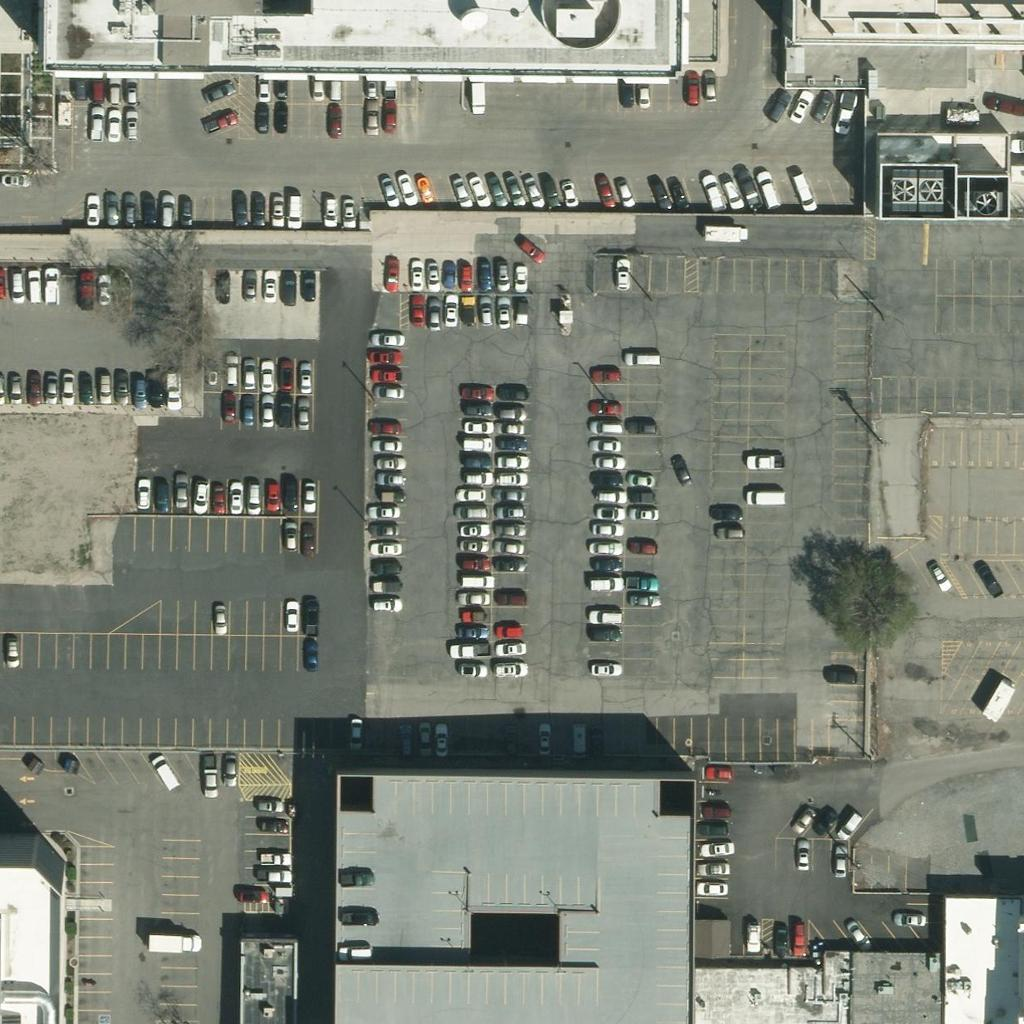car: (81, 67, 115, 101), (262, 67, 296, 101), (371, 67, 405, 101), (62, 69, 96, 103), (301, 69, 335, 103), (353, 69, 387, 103), (245, 70, 279, 104), (318, 70, 352, 104), (691, 70, 725, 104), (674, 71, 708, 105), (97, 73, 131, 107), (200, 74, 234, 108), (610, 74, 644, 108), (112, 76, 146, 110), (626, 76, 660, 110), (987, 87, 1021, 121), (761, 89, 795, 123), (804, 89, 838, 123), (783, 91, 817, 125), (827, 98, 861, 132), (243, 100, 277, 134), (262, 100, 296, 134), (372, 100, 406, 134), (206, 103, 240, 137), (355, 103, 389, 137), (79, 104, 113, 138), (113, 106, 147, 140), (318, 106, 352, 140), (96, 108, 130, 142), (727, 166, 761, 200), (389, 171, 423, 205), (496, 171, 530, 205), (748, 171, 782, 205), (479, 172, 513, 206), (370, 173, 404, 207), (460, 173, 494, 207), (532, 174, 566, 208), (443, 175, 477, 209), (515, 175, 549, 209), (587, 175, 621, 209), (696, 175, 730, 209), (713, 175, 747, 209), (409, 176, 443, 210), (607, 176, 641, 210), (787, 176, 821, 210), (551, 177, 585, 211), (644, 177, 678, 211), (661, 177, 695, 211), (222, 190, 256, 224), (240, 190, 274, 224), (131, 191, 165, 225), (311, 191, 345, 225), (168, 192, 202, 226), (94, 193, 128, 227), (111, 193, 145, 227), (168, 193, 202, 227), (260, 193, 294, 227), (329, 193, 363, 227), (148, 194, 182, 228), (74, 195, 108, 229), (277, 195, 311, 229), (512, 231, 546, 265), (374, 256, 408, 290), (466, 256, 500, 290), (484, 256, 518, 290), (603, 256, 637, 290), (398, 257, 432, 291), (431, 257, 465, 291), (414, 258, 448, 292), (449, 259, 483, 293), (502, 259, 536, 293), (16, 264, 50, 298), (33, 267, 67, 301), (205, 268, 239, 302), (232, 268, 266, 302), (252, 268, 286, 302), (68, 269, 102, 303), (290, 270, 324, 304), (86, 272, 120, 306), (272, 272, 306, 306), (448, 293, 482, 327), (399, 294, 433, 328), (433, 294, 467, 328), (467, 294, 501, 328), (484, 294, 518, 328), (504, 296, 538, 330), (416, 298, 450, 332), (368, 322, 402, 356), (366, 339, 400, 373), (624, 342, 658, 376), (215, 354, 249, 388), (267, 356, 301, 390), (368, 357, 402, 391), (590, 357, 624, 391), (193, 359, 227, 393), (231, 359, 265, 393), (248, 359, 282, 393), (288, 361, 322, 395), (16, 369, 50, 403), (32, 369, 66, 403), (104, 369, 138, 403), (50, 370, 84, 404), (88, 370, 122, 404), (68, 372, 102, 406), (139, 373, 173, 407), (121, 374, 155, 408), (373, 374, 407, 408), (459, 374, 493, 408), (499, 376, 533, 410), (157, 377, 191, 411), (211, 390, 245, 424), (230, 391, 264, 425), (589, 391, 623, 425), (460, 392, 494, 426), (249, 394, 283, 428), (268, 394, 302, 428), (493, 395, 527, 429), (284, 396, 318, 430), (368, 409, 402, 443), (461, 409, 495, 443), (587, 409, 621, 443), (491, 410, 525, 444), (628, 410, 662, 444), (494, 425, 528, 459), (369, 427, 403, 461), (459, 427, 493, 461), (588, 428, 622, 462), (493, 444, 527, 478), (590, 444, 624, 478), (459, 445, 493, 479), (745, 445, 779, 479), (371, 446, 405, 480), (665, 455, 699, 489), (372, 460, 406, 494), (459, 460, 493, 494), (494, 461, 528, 495), (588, 462, 622, 496), (623, 462, 657, 496), (273, 475, 307, 509), (254, 476, 288, 510), (453, 476, 487, 510), (124, 477, 158, 511), (163, 477, 197, 511), (492, 477, 526, 511), (182, 478, 216, 512), (290, 478, 324, 512), (376, 478, 410, 512), (593, 478, 627, 512), (626, 478, 660, 512), (143, 479, 177, 513), (219, 479, 253, 513), (234, 479, 268, 513), (202, 480, 236, 514), (750, 481, 784, 515), (365, 494, 399, 528), (454, 494, 488, 528), (495, 494, 529, 528), (590, 495, 624, 529), (627, 495, 661, 529), (708, 495, 742, 529), (368, 512, 402, 546), (456, 512, 490, 546), (492, 512, 526, 546), (589, 512, 623, 546), (713, 515, 747, 549), (273, 518, 307, 552), (290, 525, 324, 559), (455, 527, 489, 561), (626, 529, 660, 563), (491, 530, 525, 564), (588, 530, 622, 564), (368, 532, 402, 566), (491, 546, 525, 580), (588, 546, 622, 580), (454, 547, 488, 581), (370, 551, 404, 585), (921, 558, 955, 592), (971, 560, 1005, 594), (462, 563, 496, 597), (626, 565, 660, 599), (588, 566, 622, 600), (369, 568, 403, 602), (460, 581, 494, 615), (494, 581, 528, 615), (626, 582, 660, 616), (368, 587, 402, 621), (459, 599, 493, 633), (589, 599, 623, 633), (202, 600, 236, 634), (273, 600, 307, 634), (294, 600, 328, 634), (454, 614, 488, 648), (493, 614, 527, 648), (589, 616, 623, 650), (493, 631, 527, 665), (451, 633, 485, 667), (293, 639, 327, 673), (585, 651, 619, 685), (451, 652, 485, 686), (493, 652, 527, 686), (824, 658, 858, 692), (338, 715, 372, 749), (407, 721, 441, 755), (492, 722, 526, 756), (525, 722, 559, 756), (424, 723, 458, 757), (387, 724, 421, 758), (580, 725, 614, 759), (580, 726, 614, 760), (560, 727, 594, 761), (142, 751, 176, 785), (213, 751, 247, 785), (703, 755, 737, 789), (192, 764, 226, 798), (248, 788, 282, 822), (700, 794, 734, 828), (786, 802, 820, 836), (809, 804, 843, 838), (833, 806, 867, 840), (256, 808, 290, 842), (698, 811, 732, 845), (700, 830, 734, 864), (786, 838, 820, 872), (260, 841, 294, 875), (823, 843, 857, 877), (699, 850, 733, 884), (259, 857, 293, 891), (259, 858, 293, 892), (339, 861, 373, 895), (697, 870, 731, 904), (235, 879, 269, 913), (344, 900, 378, 934), (894, 902, 928, 936), (841, 917, 875, 951), (735, 921, 769, 955), (763, 921, 797, 955), (781, 923, 815, 957), (336, 937, 370, 971), (0, 270, 33, 304), (0, 371, 32, 405), (0, 161, 30, 195), (0, 634, 28, 668)
